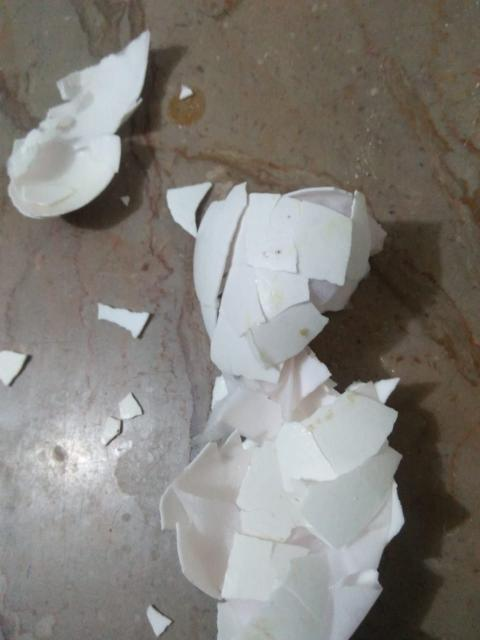Roto: (159, 183, 406, 638), (6, 28, 151, 220)
